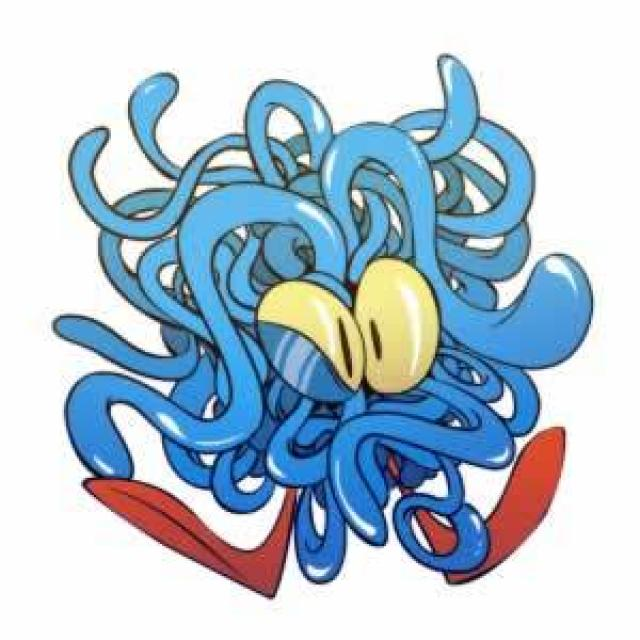Tangela: (72, 86, 569, 568)
